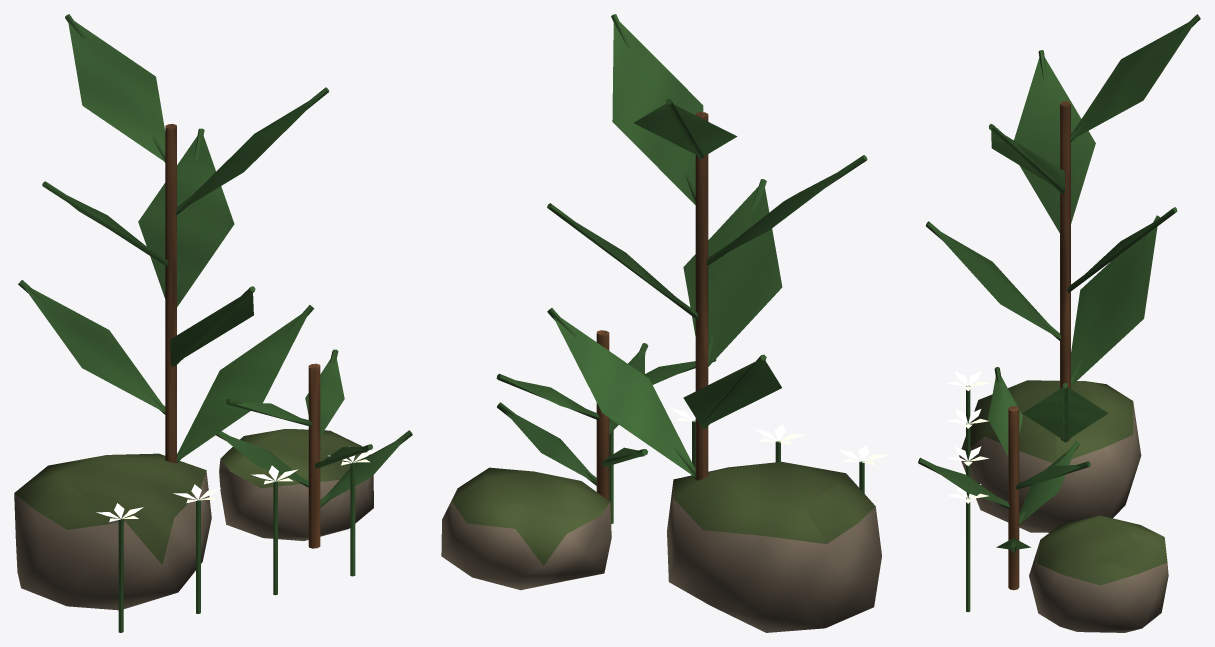
File: Furn_Spa_Plants.fbx
3 views of the same model, side by side, from view 1: azimuth 30°, elevation 25°; view 2: azimuth 150°, elevation 25°; view 3: azimuth 270°, elevation 25° (orthographic). The views are drawn at different scales.
Visible parts, largest first — view 1: Furn_Spa_Plants; view 2: Furn_Spa_Plants; view 3: Furn_Spa_Plants.
Boxes of the visible parts, x1,y1,x2,y2 form: Furn_Spa_Plants: [14, 14, 412, 632]; Furn_Spa_Plants: [441, 14, 888, 632]; Furn_Spa_Plants: [918, 14, 1200, 632].
Size of the model in its own units: 1.2 by 1.61 by 0.8.
Materials: 4 (3 with a texture image).
